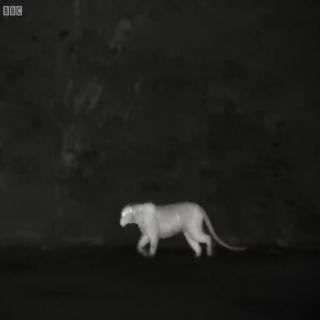Leopard: (109, 190, 229, 269)
